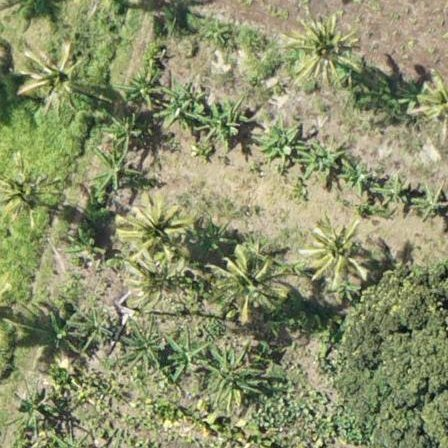palm_tree: (299, 209, 374, 289), (118, 192, 192, 270), (214, 243, 285, 317), (19, 37, 85, 108), (294, 13, 359, 83), (1, 157, 56, 219)
